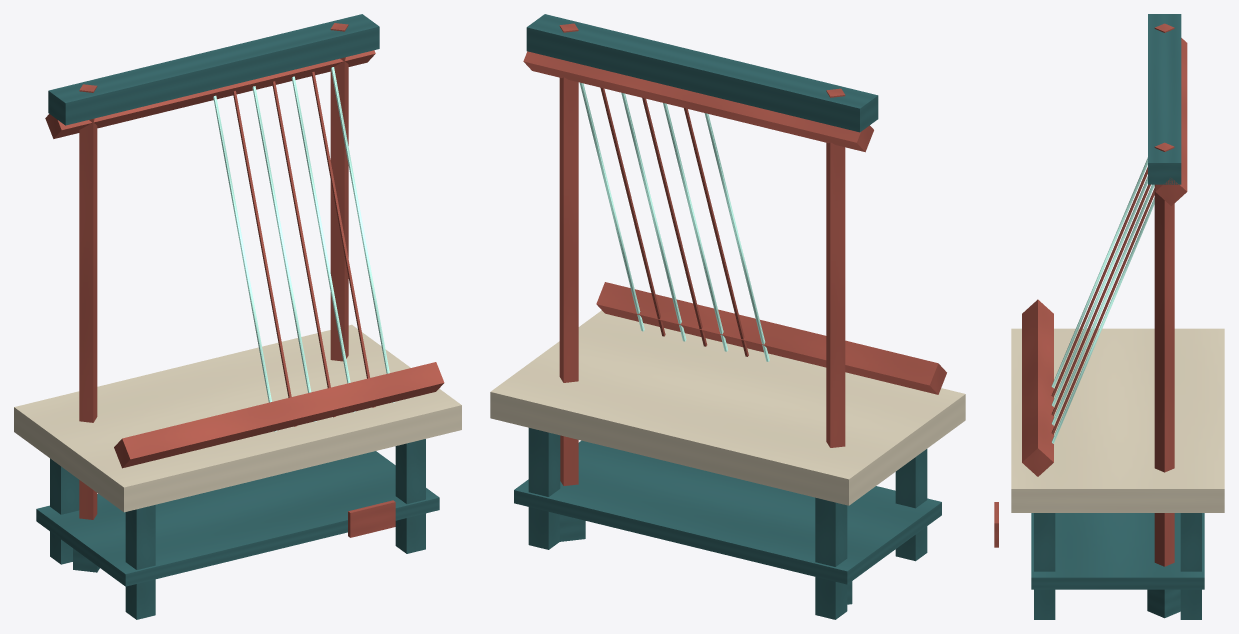
File: atlas100-s037-a01.lod2.glb
3 views of the same model, side by side, from view 1: azimuth 30°, elevation 25°; view 2: azimuth 150°, elevation 25°; view 3: azimuth 270°, elevation 25° (orthographic). The views are drawn at different scales.
Parts seen in each view (by area): view 1: atlas100-s037-a01:part-004, atlas100-s037-a01:part-005, atlas100-s037-a01:part-010, atlas100-s037-a01:part-024, atlas100-s037-a01:part-006, atlas100-s037-a01:part-008, atlas100-s037-a01:part-025, atlas100-s037-a01:part-001, atlas100-s037-a01:part-003, atlas100-s037-a01:part-000, atlas100-s037-a01:part-026, atlas100-s037-a01:part-017 (+6 smaller); view 2: atlas100-s037-a01:part-004, atlas100-s037-a01:part-005, atlas100-s037-a01:part-010, atlas100-s037-a01:part-024, atlas100-s037-a01:part-008, atlas100-s037-a01:part-025, atlas100-s037-a01:part-006, atlas100-s037-a01:part-000, atlas100-s037-a01:part-002, atlas100-s037-a01:part-001, atlas100-s037-a01:part-023, atlas100-s037-a01:part-019 (+5 smaller); view 3: atlas100-s037-a01:part-004, atlas100-s037-a01:part-005, atlas100-s037-a01:part-008, atlas100-s037-a01:part-010, atlas100-s037-a01:part-024, atlas100-s037-a01:part-002, atlas100-s037-a01:part-003, atlas100-s037-a01:part-025, atlas100-s037-a01:part-022, atlas100-s037-a01:part-023, atlas100-s037-a01:part-009, atlas100-s037-a01:part-021 (+4 smaller).
Boxes of the visible parts, x1=… form: atlas100-s037-a01:part-004: x1=14, y1=324, x2=461, y2=512; atlas100-s037-a01:part-005: x1=36, y1=451, x2=439, y2=586; atlas100-s037-a01:part-010: x1=48, y1=14, x2=379, y2=125; atlas100-s037-a01:part-024: x1=114, y1=362, x2=444, y2=468; atlas100-s037-a01:part-006: x1=79, y1=84, x2=97, y2=519; atlas100-s037-a01:part-008: x1=330, y1=23, x2=348, y2=361; atlas100-s037-a01:part-025: x1=45, y1=50, x2=375, y2=138; atlas100-s037-a01:part-001: x1=125, y1=505, x2=155, y2=619; atlas100-s037-a01:part-003: x1=395, y1=439, x2=425, y2=553; atlas100-s037-a01:part-000: x1=50, y1=458, x2=79, y2=564; atlas100-s037-a01:part-026: x1=348, y1=500, x2=395, y2=537; atlas100-s037-a01:part-017: x1=213, y1=95, x2=276, y2=431; atlas100-s037-a01:part-004: x1=490, y1=310, x2=965, y2=505; atlas100-s037-a01:part-005: x1=514, y1=440, x2=941, y2=584; atlas100-s037-a01:part-010: x1=526, y1=14, x2=878, y2=132; atlas100-s037-a01:part-024: x1=596, y1=282, x2=946, y2=394; atlas100-s037-a01:part-008: x1=559, y1=23, x2=578, y2=485; atlas100-s037-a01:part-025: x1=523, y1=51, x2=873, y2=152; atlas100-s037-a01:part-006: x1=826, y1=88, x2=845, y2=447; atlas100-s037-a01:part-000: x1=815, y1=497, x2=847, y2=619; atlas100-s037-a01:part-002: x1=528, y1=428, x2=560, y2=549; atlas100-s037-a01:part-001: x1=895, y1=449, x2=927, y2=561; atlas100-s037-a01:part-023: x1=579, y1=82, x2=644, y2=331; atlas100-s037-a01:part-019: x1=663, y1=103, x2=727, y2=351; atlas100-s037-a01:part-004: x1=1011, y1=328, x2=1224, y2=512; atlas100-s037-a01:part-005: x1=1031, y1=513, x2=1204, y2=589; atlas100-s037-a01:part-008: x1=1154, y1=142, x2=1174, y2=566; atlas100-s037-a01:part-010: x1=1148, y1=14, x2=1181, y2=184; atlas100-s037-a01:part-024: x1=1022, y1=299, x2=1053, y2=476; atlas100-s037-a01:part-002: x1=1180, y1=513, x2=1201, y2=619; atlas100-s037-a01:part-003: x1=1034, y1=513, x2=1055, y2=619; atlas100-s037-a01:part-025: x1=1155, y1=38, x2=1187, y2=206; atlas100-s037-a01:part-022: x1=1051, y1=188, x2=1154, y2=434; atlas100-s037-a01:part-023: x1=1051, y1=197, x2=1154, y2=443; atlas100-s037-a01:part-009: x1=1147, y1=589, x2=1180, y2=618; atlas100-s037-a01:part-021: x1=1051, y1=184, x2=1154, y2=425.
Bounding box in the file's own units: 2.84 × 3.84 × 1.73.
4 materials, 4 textured.
